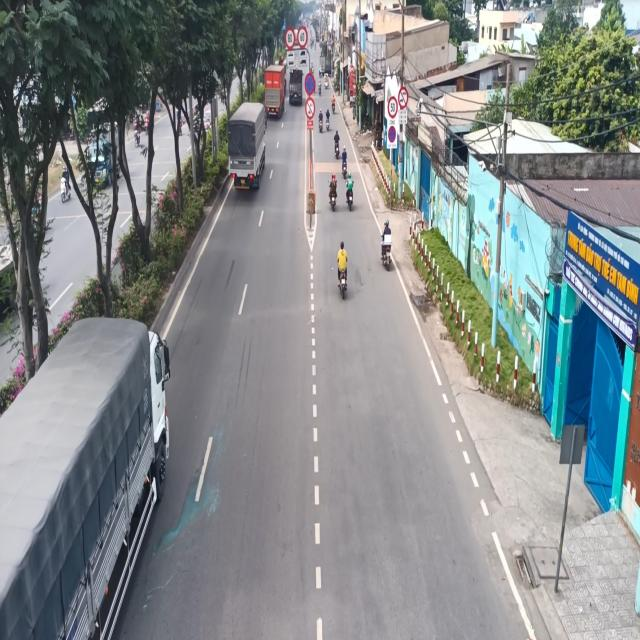motor: (335, 242, 354, 303), (378, 213, 394, 275), (328, 170, 341, 217), (344, 170, 355, 212)
truck: (0, 308, 176, 638), (226, 95, 269, 202), (265, 60, 285, 119), (287, 64, 305, 111)
